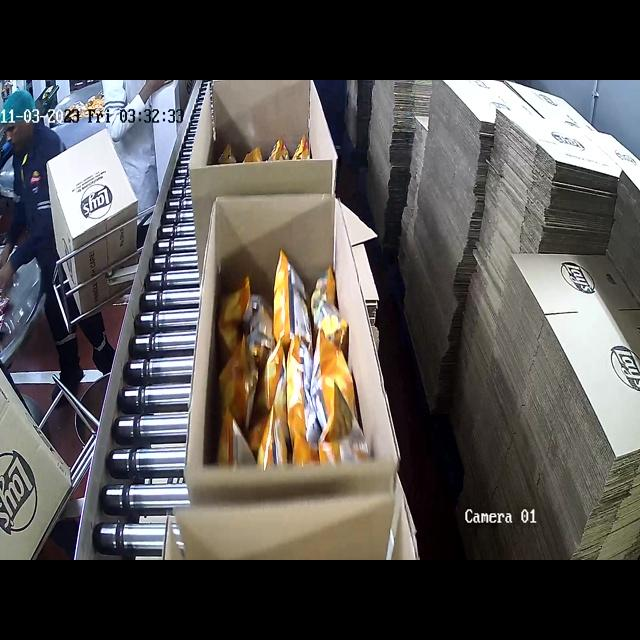cheese: (229, 235, 369, 456), (214, 108, 333, 171)
